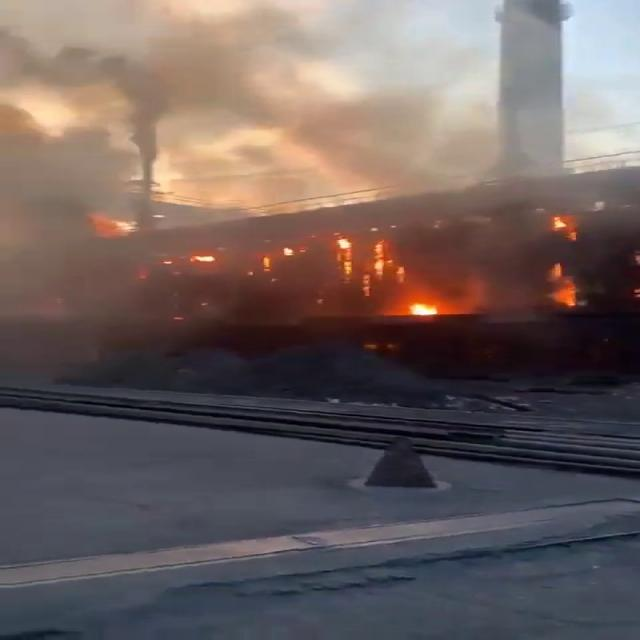Fire: (411, 303, 439, 317)
Smoke: (3, 2, 428, 377)
